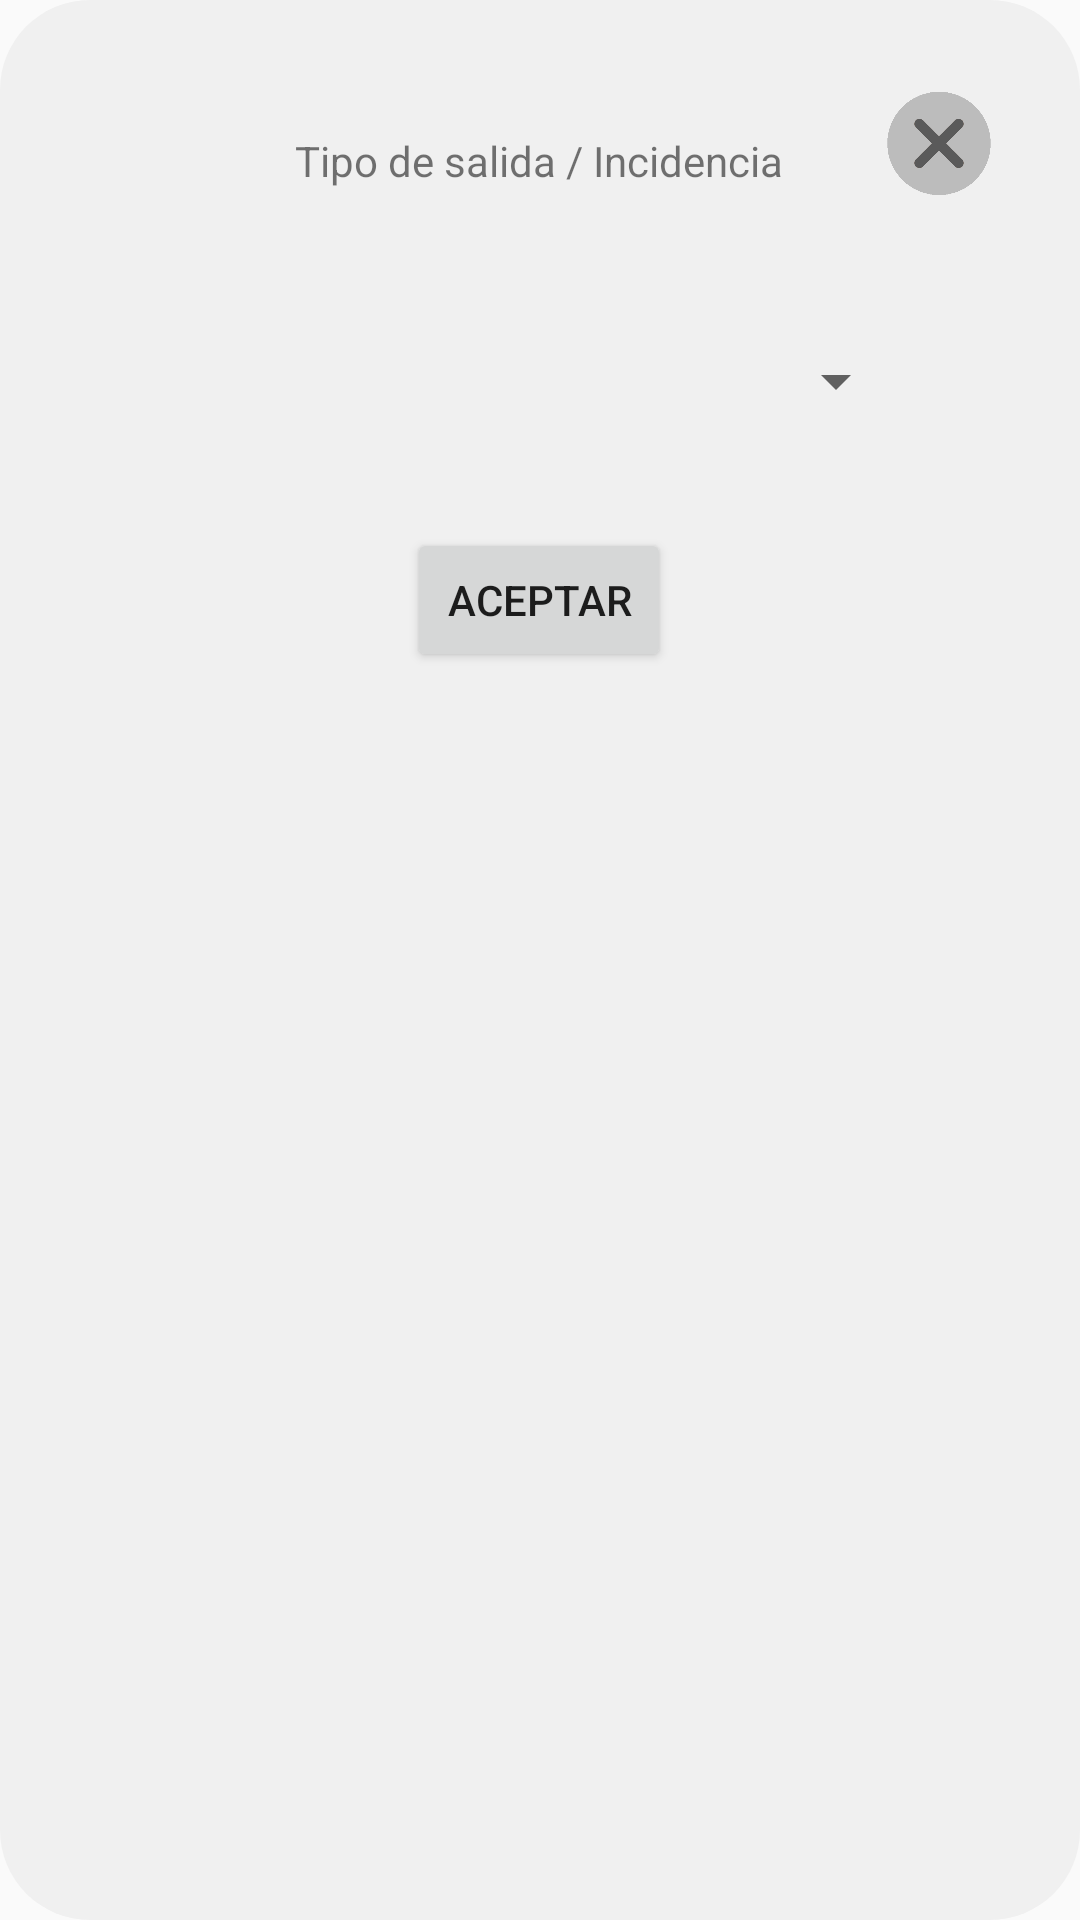

Icons on this 1080×1920 Android screen, each with its box as {"left": x1, "top": y1, "right": x2, "bottom": y2}:
cancel: {"left": 887, "top": 92, "right": 991, "bottom": 195}
